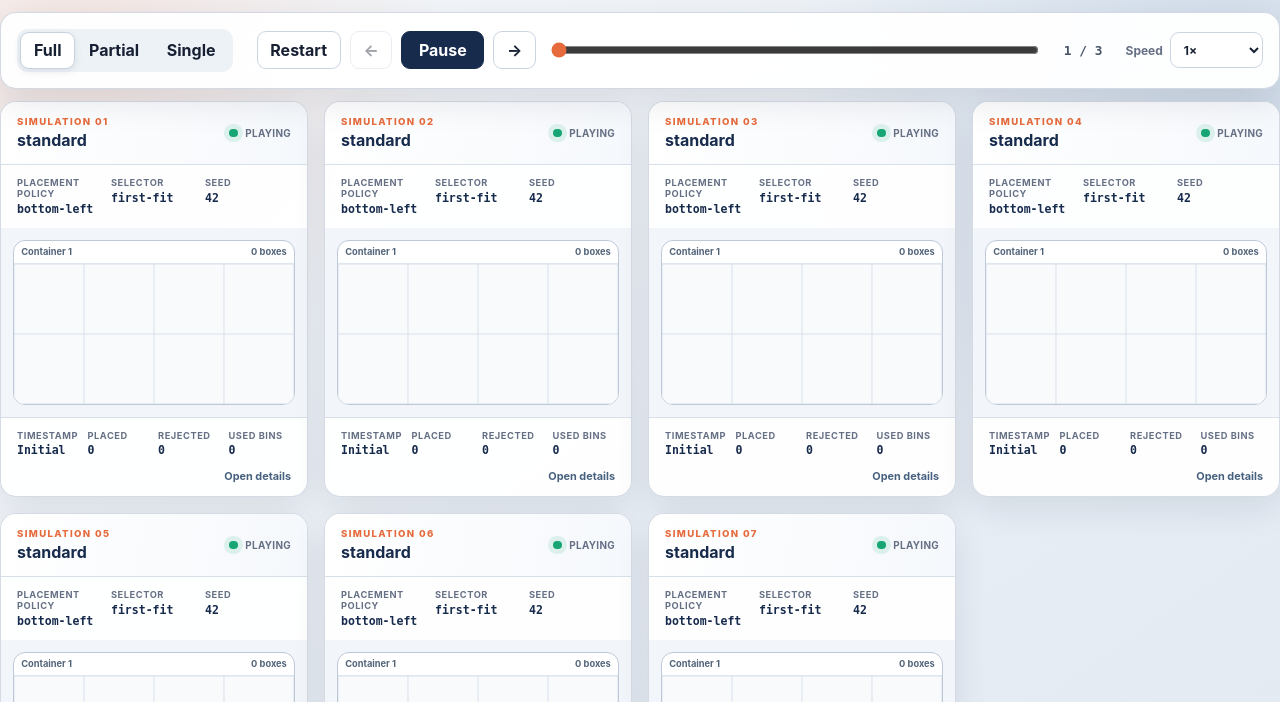
SimulationGallery › defaults to the full grid and paginates the partial grid
Click the button "Partial": click(114, 50) [75,32,153,69]
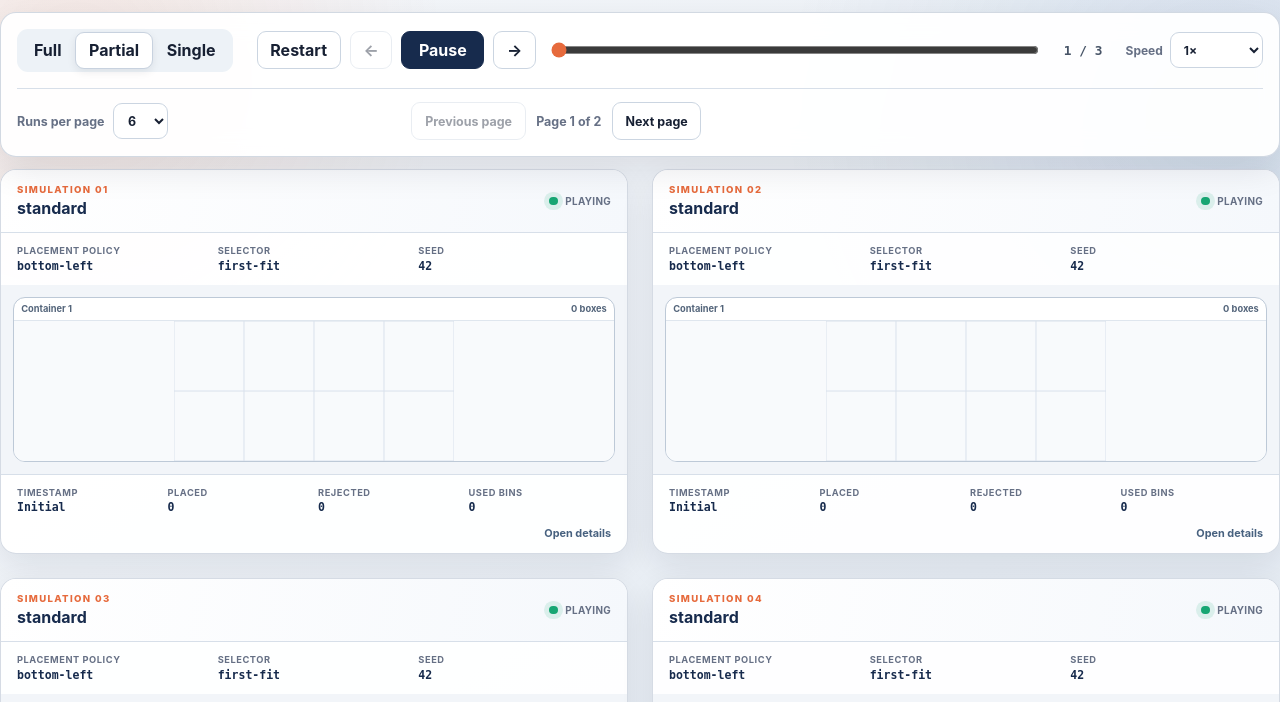
Check: the number of elements named "Simulation run-" is 6
Check: the text "Page 1 of 2" is shown, box [536,114,601,129]
Click the button "Next page": click(657, 121) [612,102,702,140]
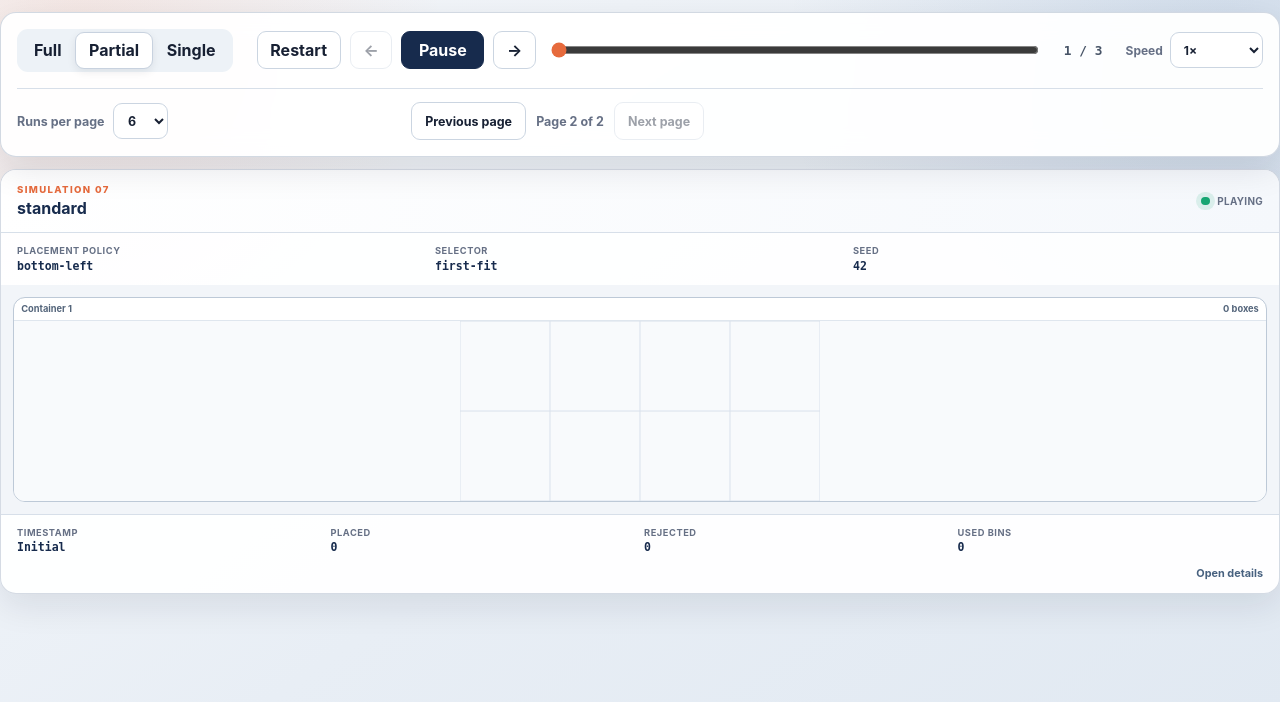
Check: the element named "Simulation run-7" is shown
Select "4" in the dropdown labelled "Runs per page": (141, 121) [113,103,168,139]
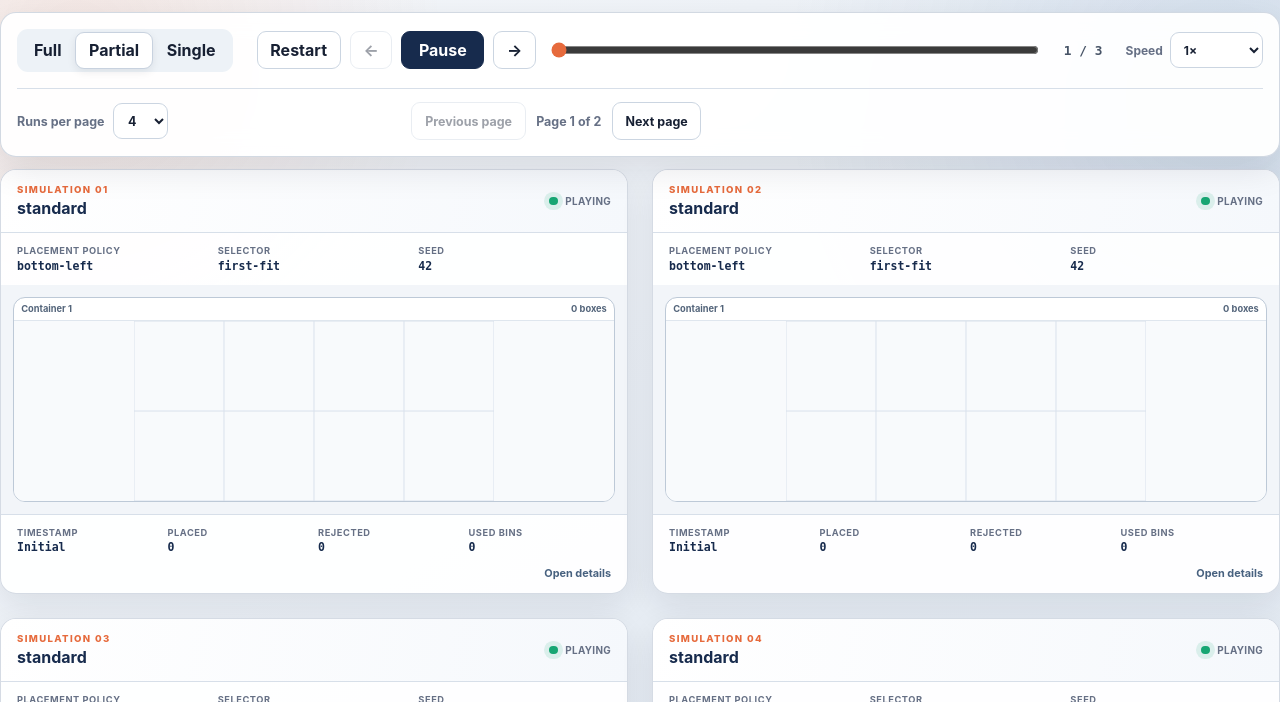
Check: the text "Page 1 of 2" is shown, box [536,114,601,129]
